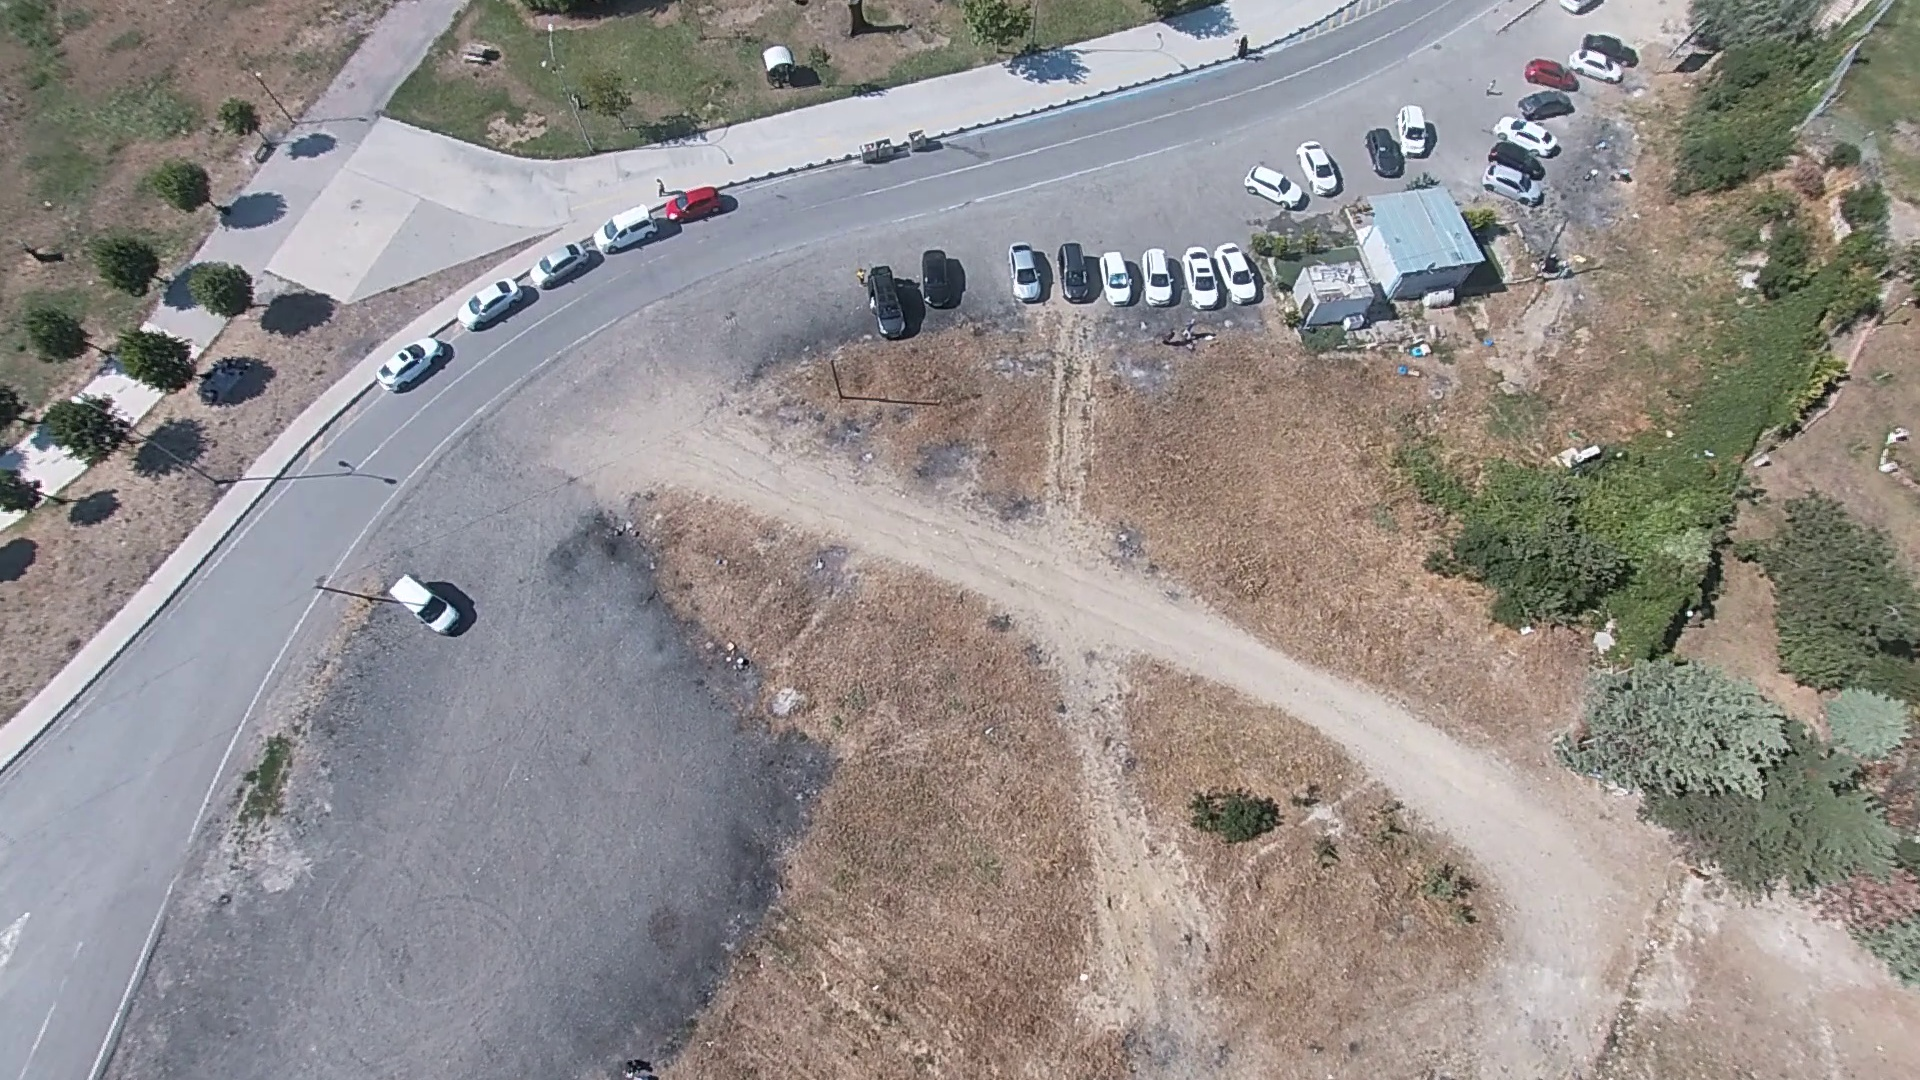arac: (586, 176, 733, 252), (390, 572, 469, 635), (378, 331, 453, 390), (1566, 36, 1635, 81), (1217, 233, 1259, 297), (1246, 160, 1302, 207), (1011, 238, 1054, 298), (1296, 137, 1338, 196), (1557, 439, 1604, 472), (460, 46, 501, 69)
insan: (1239, 26, 1255, 63)
